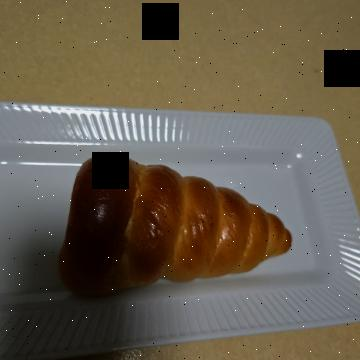cream horn: (132, 56, 304, 315)
